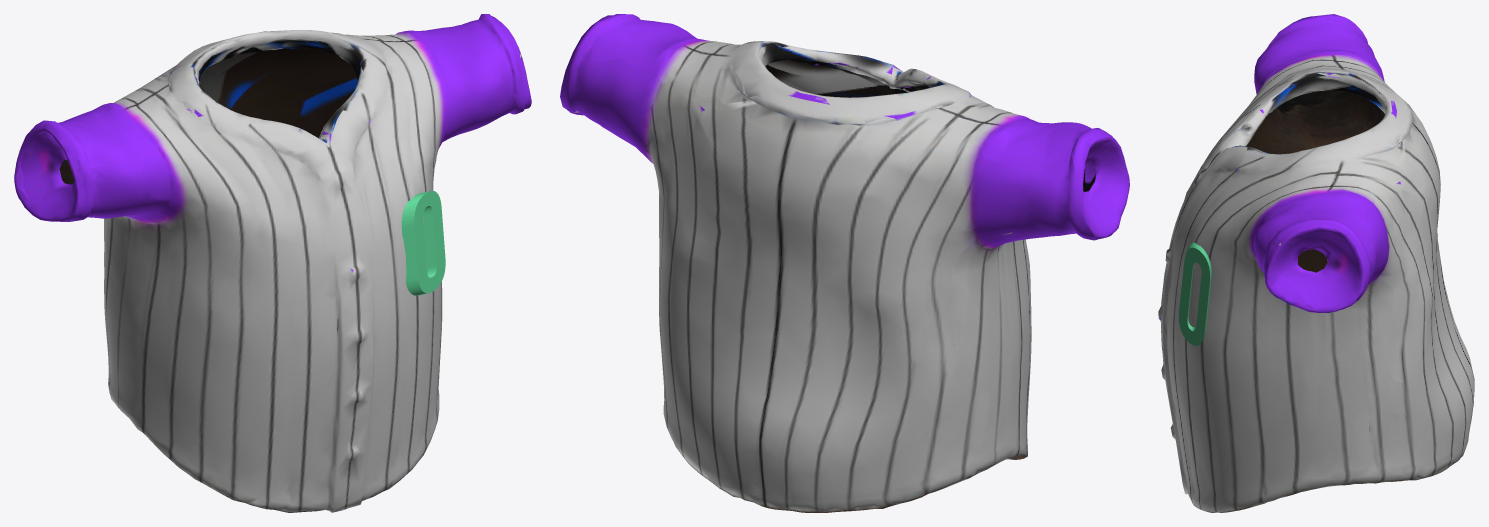
The model's file is Baseball-Snow-Purple.glb.
3 views of the same model, side by side, from view 1: azimuth 30°, elevation 25°; view 2: azimuth 150°, elevation 25°; view 3: azimuth 270°, elevation 25° (orthographic). The views are drawn at different scales.
Visible parts, largest first — view 1: Baseball-Snow-Purple; view 2: Baseball-Snow-Purple; view 3: Baseball-Snow-Purple.
Boxes of the visible parts, x1,y1,x2,y2 form: Baseball-Snow-Purple: [14, 14, 531, 512]; Baseball-Snow-Purple: [560, 14, 1129, 512]; Baseball-Snow-Purple: [1158, 14, 1474, 512].
Bounding box in the file's own units: 0.57 × 0.4471 × 0.3345.
Materials: 2 (1 with a texture image).
